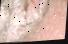plaque psoriasis: (0, 0, 50, 44)
